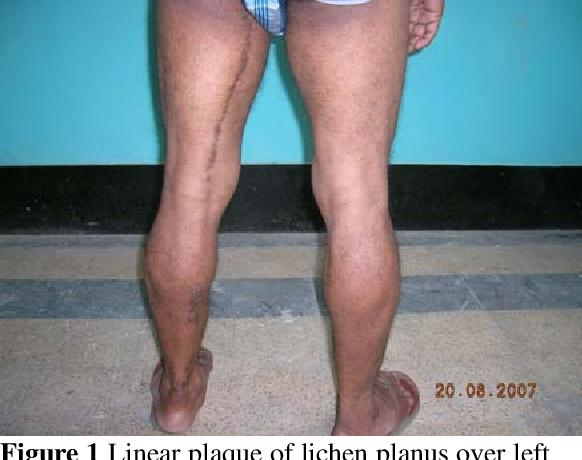linear lichen planus: (199, 41, 248, 138)
